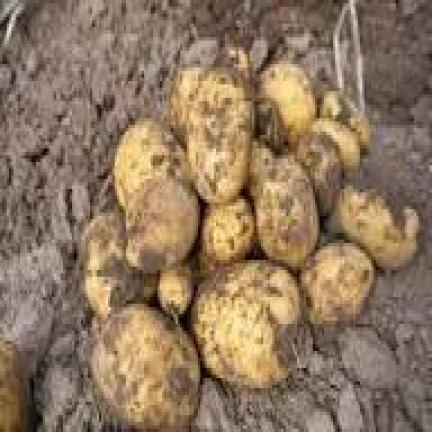potato: (191, 260, 299, 385), (92, 304, 196, 429), (184, 68, 252, 196), (254, 155, 317, 267), (335, 189, 418, 267), (115, 118, 187, 206), (83, 213, 142, 317), (126, 179, 198, 263), (302, 243, 371, 321), (259, 68, 315, 142), (295, 132, 340, 213), (200, 196, 252, 263), (322, 94, 369, 148), (169, 68, 202, 138), (313, 118, 358, 169), (0, 338, 25, 429), (160, 267, 189, 314), (247, 142, 272, 196), (218, 44, 250, 78)
